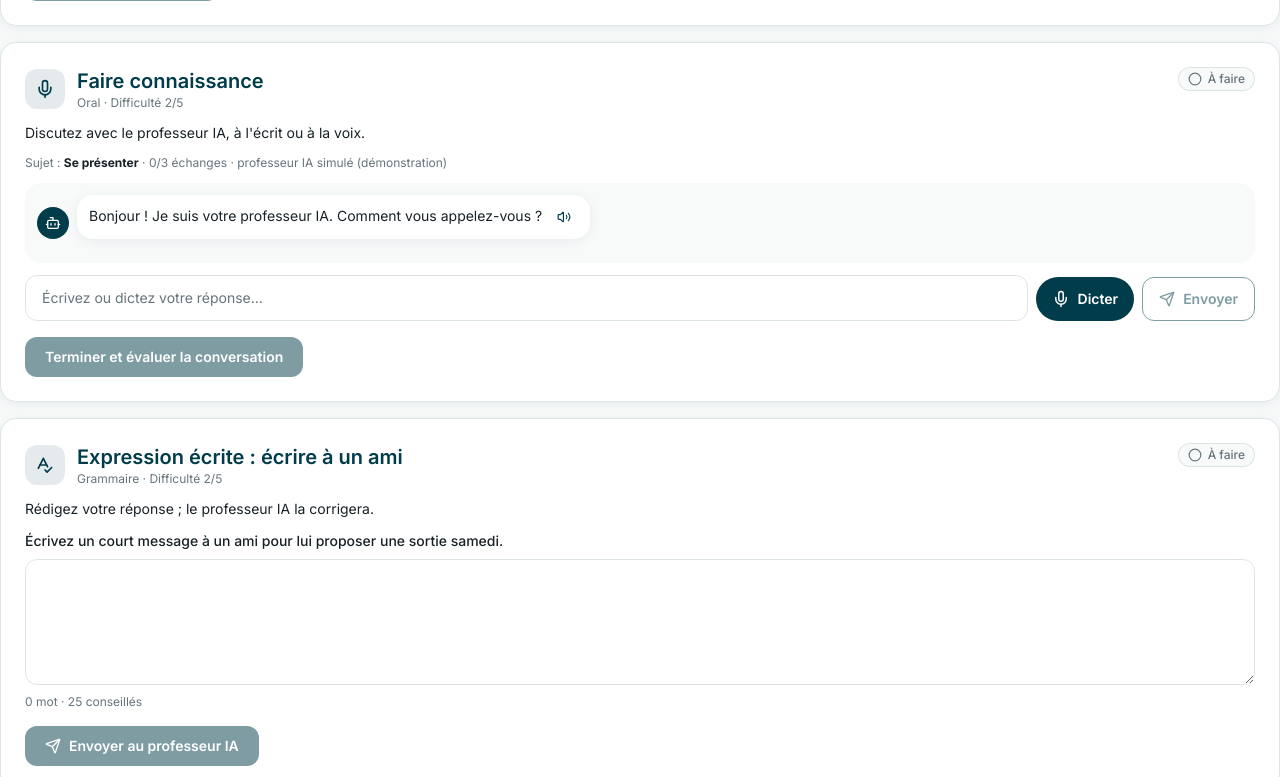
Test: US43/US44 — réponse libre corrigée par l'IA › affiche le retour du professeur IA : erreurs relevées, points forts et conseil
The width and height of the screenshot is (1280, 777).
(page scrolled)
Type "salut, samedi j'ai allé au cinéma mais il faut que je vais au marché" into the text box labelled "Écrivez un court message à un ami". click: (640, 622)
box: top-left (25, 559), bottom-right (1255, 685)
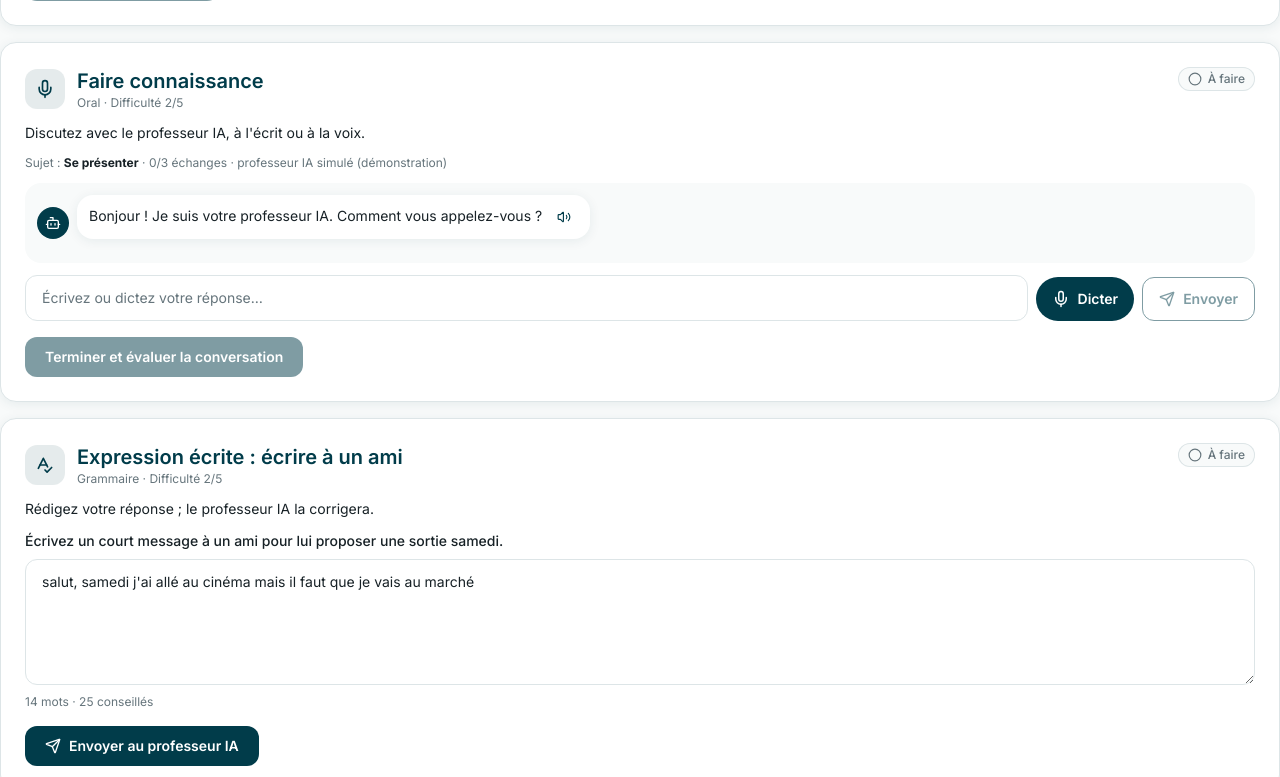
Expected: the text "14 mots · 25 conseillés" is shown, top-left (25, 694), bottom-right (153, 709)
Click the button "Envoyer au professeur IA". click: (142, 746)
box: top-left (25, 726), bottom-right (259, 766)
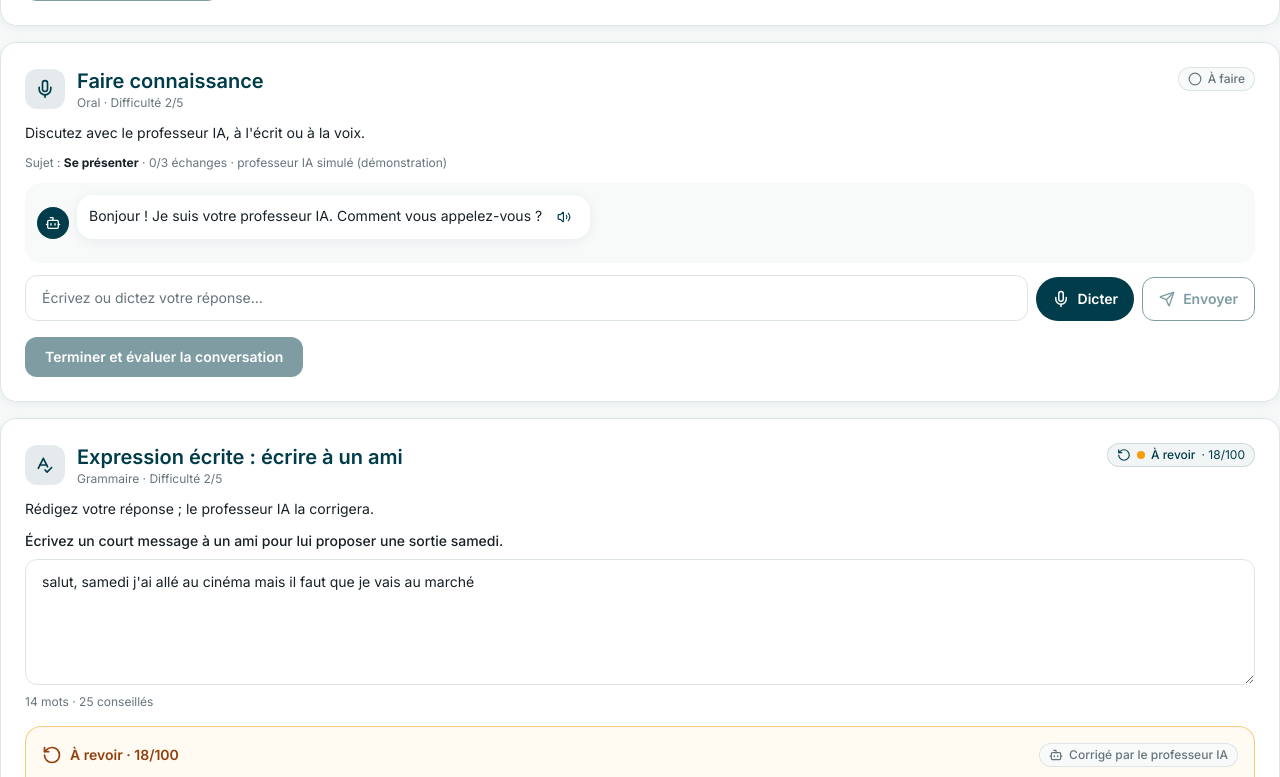
Expected: the element named "Correction" shows "Corrigé par le professeur IA", top-left (1069, 747), bottom-right (1228, 762)
